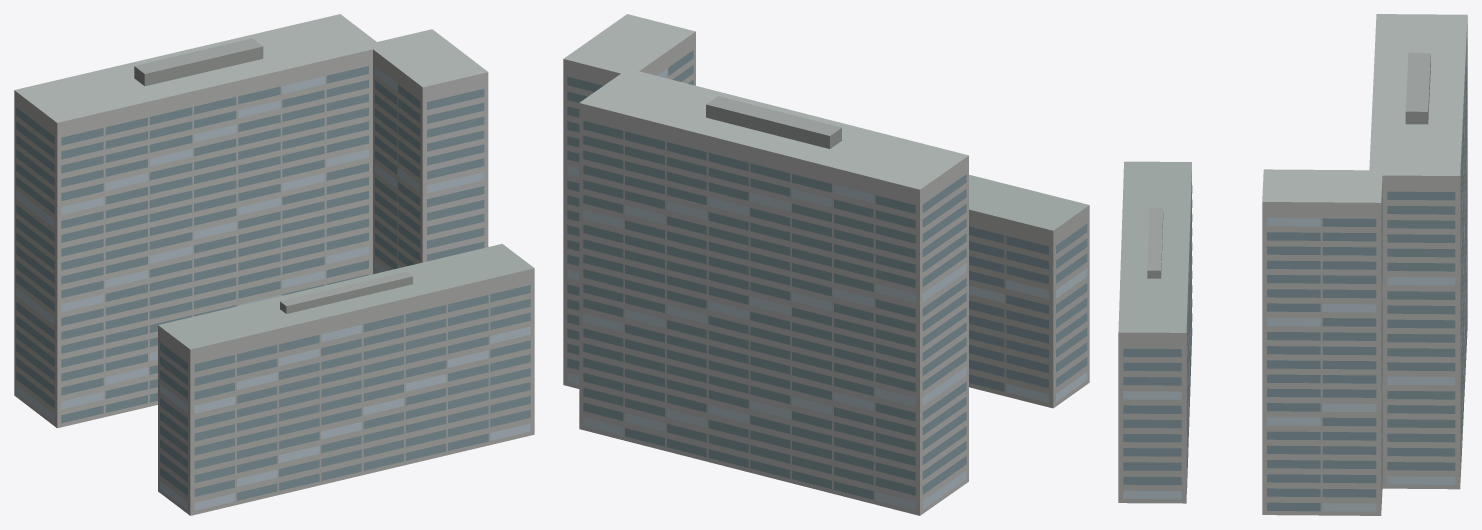
The model's file is apt-a12185504.glb.
The picture shows the model from 3 angles, left to right: view 1: azimuth 30°, elevation 25°; view 2: azimuth 150°, elevation 25°; view 3: azimuth 270°, elevation 25°; orthographic projection. The views are drawn at different scales.
Parts seen in each view (by area): view 1: apt-a12185504; view 2: apt-a12185504; view 3: apt-a12185504.
Boxes of the visible parts, bbox=[...] form: apt-a12185504: bbox=[14, 14, 534, 515]; apt-a12185504: bbox=[563, 14, 1089, 515]; apt-a12185504: bbox=[1118, 14, 1467, 515].
Bounding box in the file's own units: 77.15 × 62 × 60.29.
